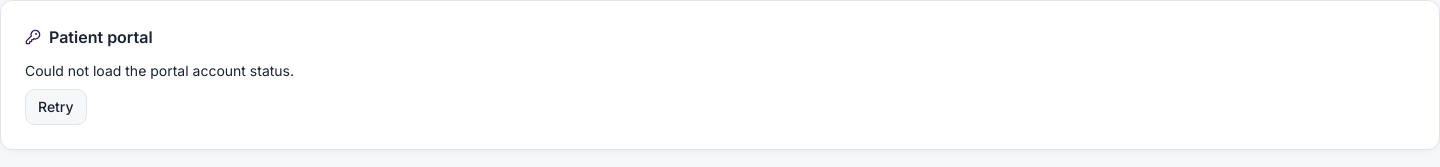
Test: shows a read failure with retry instead of offering to create an account
The width and height of the screenshot is (1440, 167).
Expected: the button "Create portal login" is not shown
Click the button "Retry".
click(56, 107)  # box [25,89,87,125]
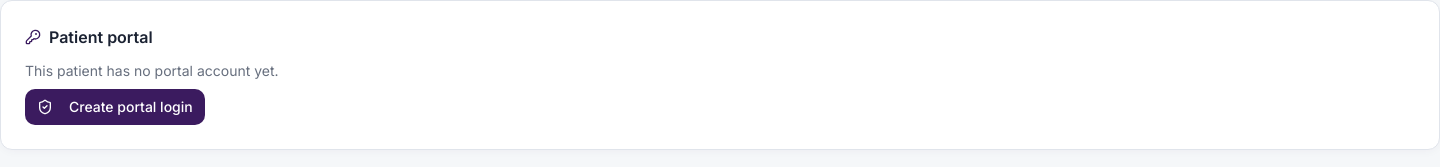
Result: the button "Create portal login" is shown at [25,89,205,125]
